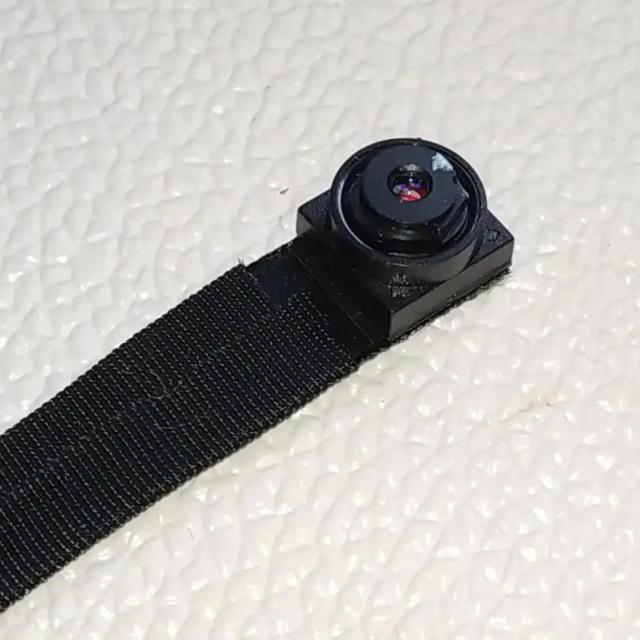hidden camera: (351, 134, 470, 236)
